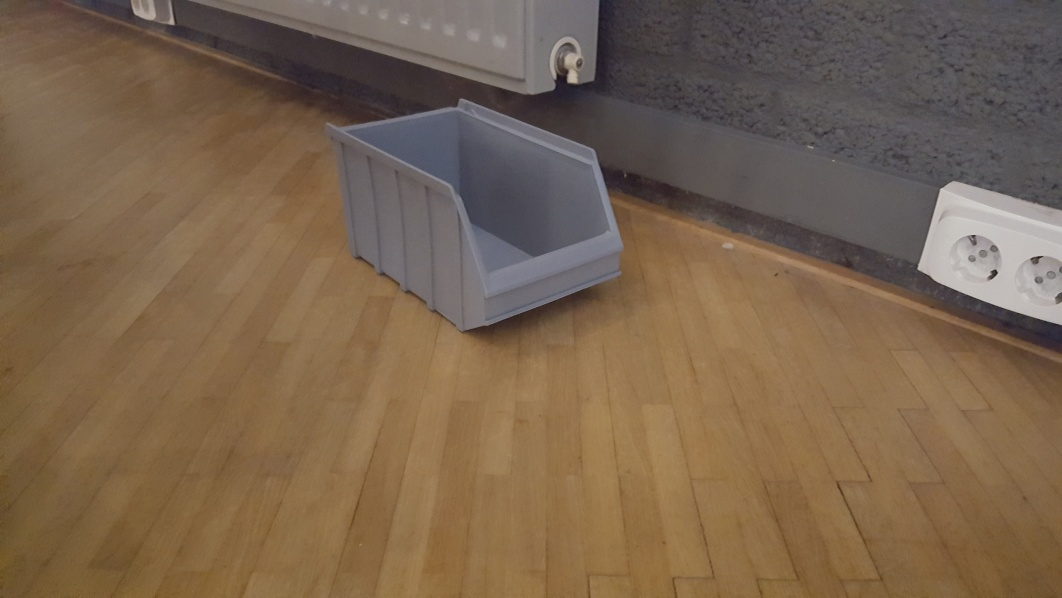tray: (320, 99, 625, 330)
